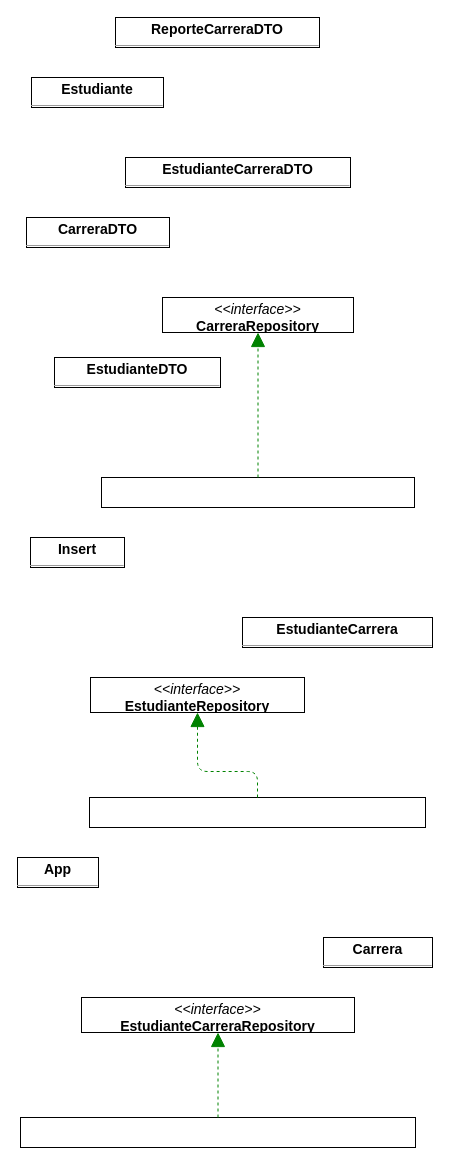
Image size: 450x1165. Some labels were removed from this diagram. The box of each missing label's shape, as (x1, y1, x2, y2) in pixels:
CarreraRepositoryImplementacion: (100, 476, 414, 508)
EstudianteCarreraRepositoryImplementacion: (20, 1116, 416, 1148)
EstudianteRepositoryImplementacion: (88, 796, 426, 828)
